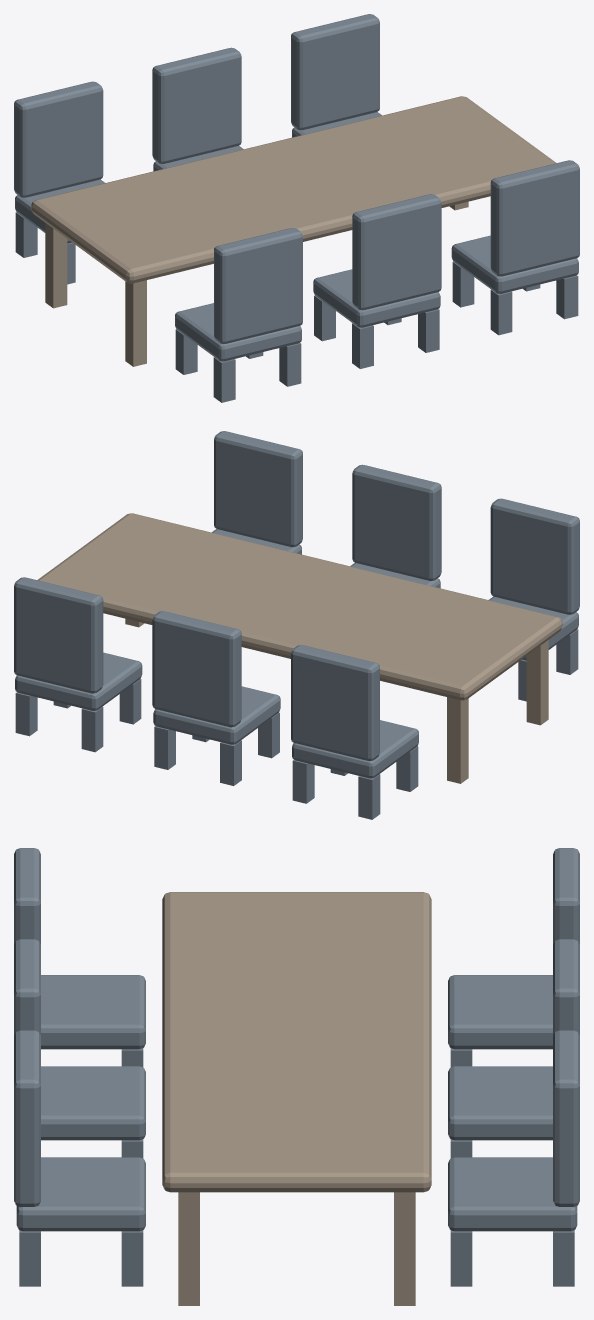
The model's file is table-big.glb.
3 renders of one model, top to bottom at view 1: azimuth 30°, elevation 25°; view 2: azimuth 150°, elevation 25°; view 3: azimuth 270°, elevation 25°, orthographic. The views are drawn at different scales.
Parts seen in each view (by area): view 1: Table, Chair-3, Chair-1, Chair-2, Chair-4, Chair-5, Chair-6; view 2: Table, Chair-6, Chair-4, Chair-5, Chair-1, Chair-2, Chair-3; view 3: Table, Chair-3, Chair-6, Chair-2, Chair-5, Chair-1, Chair-4.
Boxes of the visible parts, bbox=[...] form: Table: bbox=[31, 96, 556, 366]; Chair-3: bbox=[451, 160, 579, 335]; Chair-1: bbox=[175, 228, 302, 402]; Chair-2: bbox=[313, 194, 441, 368]; Chair-4: bbox=[14, 81, 104, 284]; Chair-5: bbox=[152, 47, 243, 171]; Chair-6: bbox=[291, 14, 381, 137]; Table: bbox=[37, 513, 562, 783]; Chair-6: bbox=[14, 577, 142, 752]; Chair-4: bbox=[291, 645, 418, 819]; Chair-5: bbox=[152, 611, 280, 785]; Chair-1: bbox=[489, 498, 579, 701]; Chair-2: bbox=[350, 464, 441, 588]; Chair-3: bbox=[212, 431, 302, 554]; Table: bbox=[162, 892, 431, 1305]; Chair-3: bbox=[14, 1030, 145, 1286]; Chair-6: bbox=[448, 1030, 579, 1286]; Chair-2: bbox=[14, 939, 145, 1158]; Chair-5: bbox=[448, 939, 579, 1158]; Chair-1: bbox=[14, 848, 145, 1066]; Chair-4: bbox=[448, 848, 579, 1066].
Bounding box in the file's own units: 0.126 × 0.042 × 0.105.
